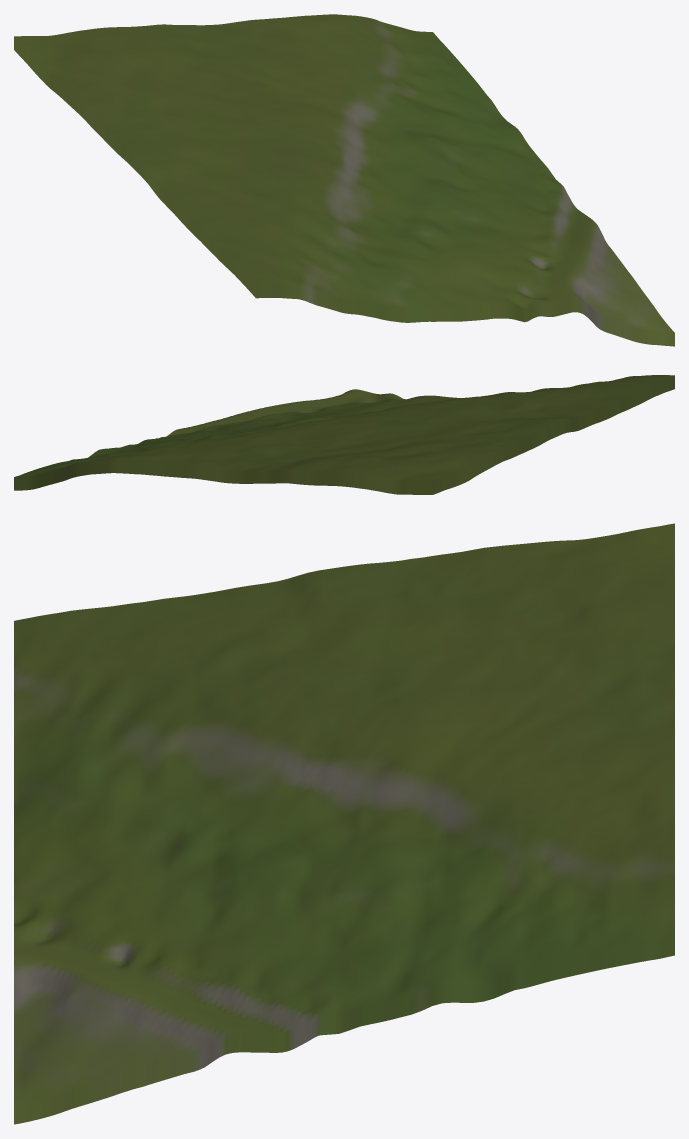
Rendered from terrain_2_-4.glb.
The picture shows the model from 3 angles, top to bottom: view 1: azimuth 30°, elevation 25°; view 2: azimuth 150°, elevation 25°; view 3: azimuth 270°, elevation 25°; orthographic projection. The views are drawn at different scales.
Visible parts, largest first — view 1: terrain_2_-4; view 2: terrain_2_-4; view 3: terrain_2_-4.
Boxes of the visible parts, x1,y1,x2,y2 form: terrain_2_-4: (14, 14, 674, 346); terrain_2_-4: (14, 375, 674, 494); terrain_2_-4: (14, 523, 674, 1124).
Size of the model in its own units: 256 by 137 by 256.
